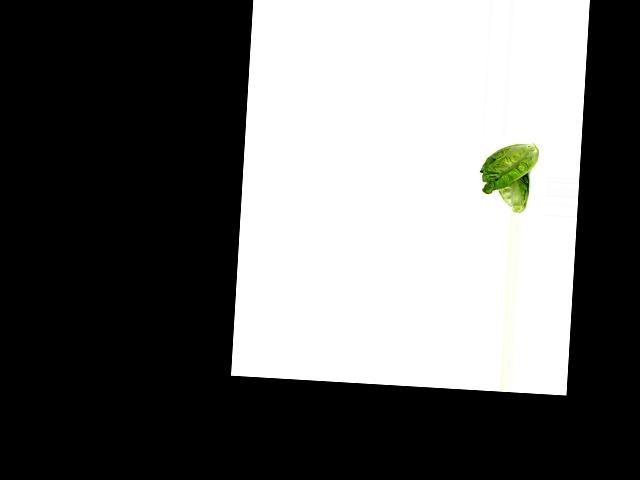lettuce: (495, 172, 532, 215)
